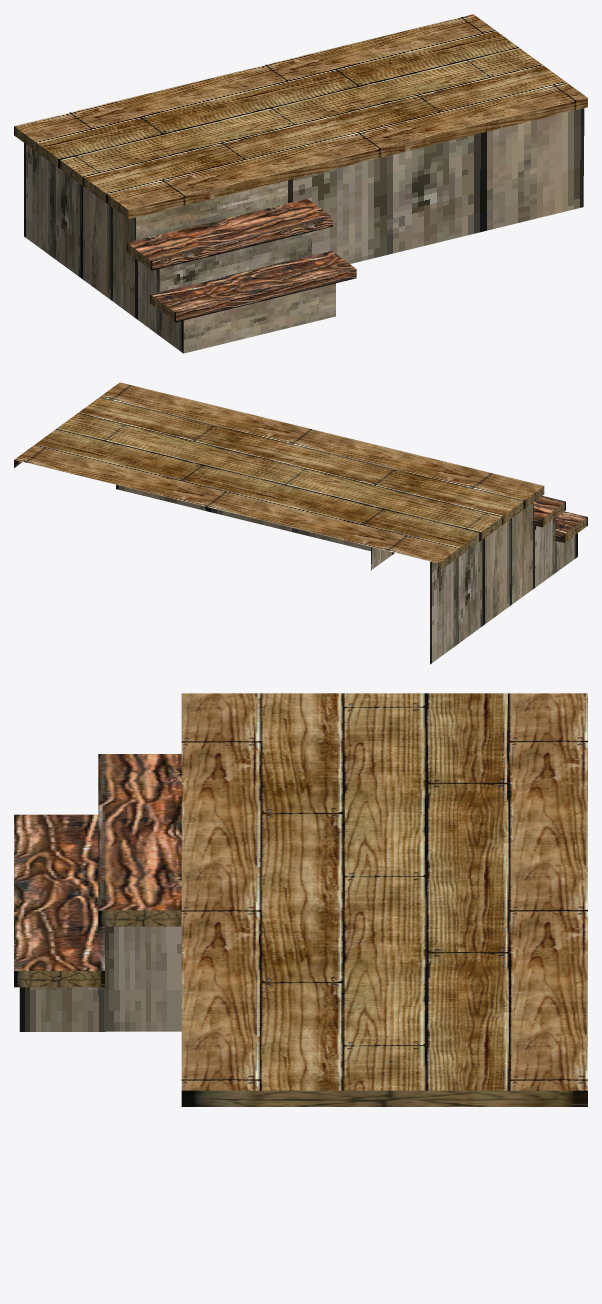
The model's file is LAKETOWN_GENHOUSE1_PS_GH1_STAIR44.fbx.
3 views of the same model, one above another, from view 1: azimuth 30°, elevation 25°; view 2: azimuth 150°, elevation 25°; view 3: azimuth 270°, elevation 25° (orthographic). The views are drawn at different scales.
Visible parts, largest first — view 1: LAKETOWN_GENHOUSE1_PS_GH1_STAIR44; view 2: LAKETOWN_GENHOUSE1_PS_GH1_STAIR44; view 3: LAKETOWN_GENHOUSE1_PS_GH1_STAIR44.
Boxes of the visible parts, x1,y1,x2,y2 form: LAKETOWN_GENHOUSE1_PS_GH1_STAIR44: (14,14,587,353); LAKETOWN_GENHOUSE1_PS_GH1_STAIR44: (14,382,587,664); LAKETOWN_GENHOUSE1_PS_GH1_STAIR44: (14,693,587,1106).
Bounding box in the file's own units: 37330 × 8729 × 22747.
Materials: 5 (5 with a texture image).
